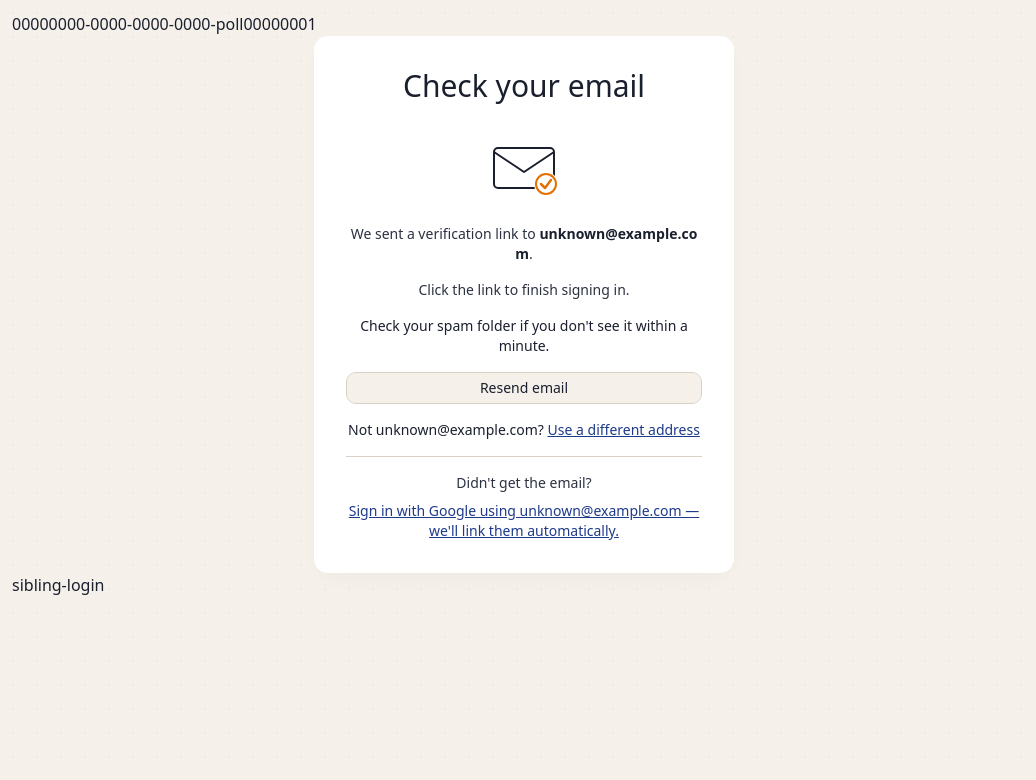
Test: VerifyEmailPage AC4 — resend countdown › URL pollId does NOT update when verifyPollId is null (anti-enumeration branch)
Expected: the element with test id "verify-polling" is shown, [346,128,702,541]
Click the button with test id "verify-resend-button" at (524, 388), box [346,372,702,404]
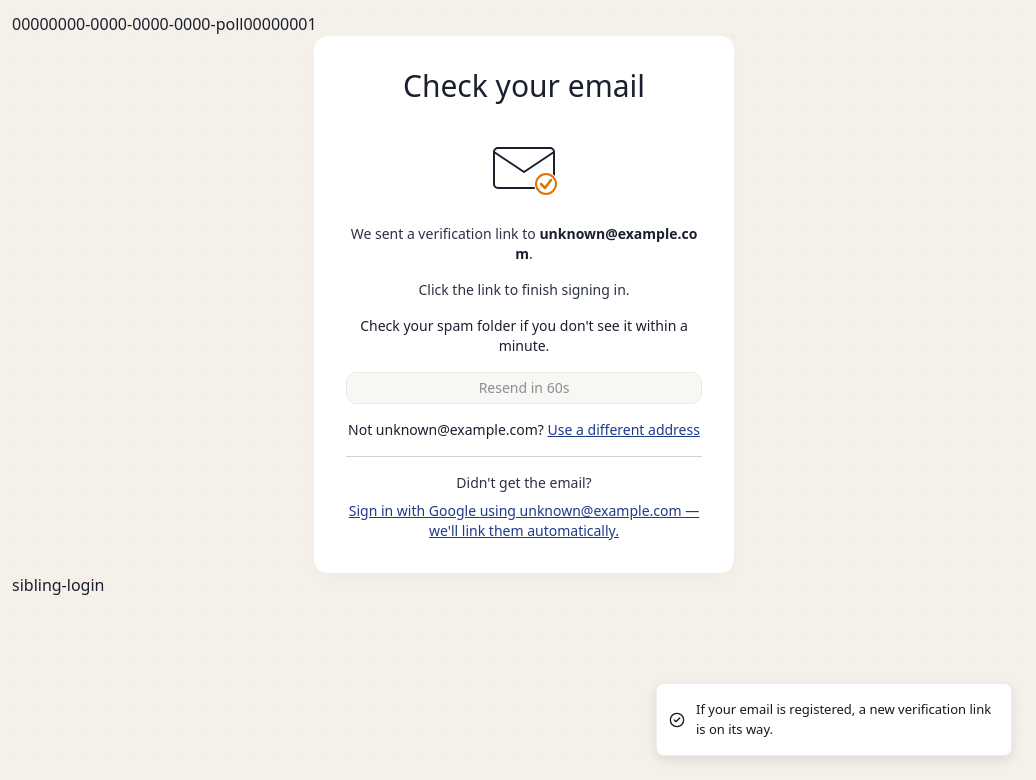
Expected: the text with test id "url-pollId" reads "00000000-0000-0000-0000-poll00000001", [12,13,317,35]
Now the button with test id "verify-resend-button" is disabled, box [346,372,702,404]
